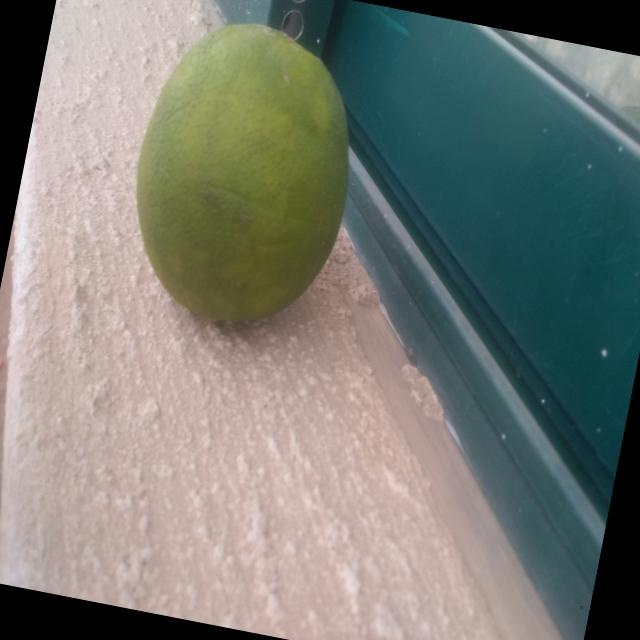agrume: (84, 0, 392, 371)
